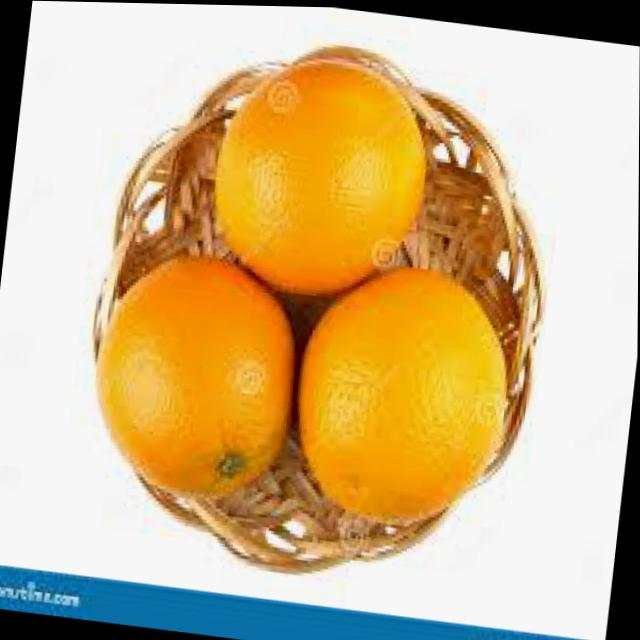orange: (199, 36, 443, 303), (286, 253, 519, 528), (88, 246, 308, 504)
